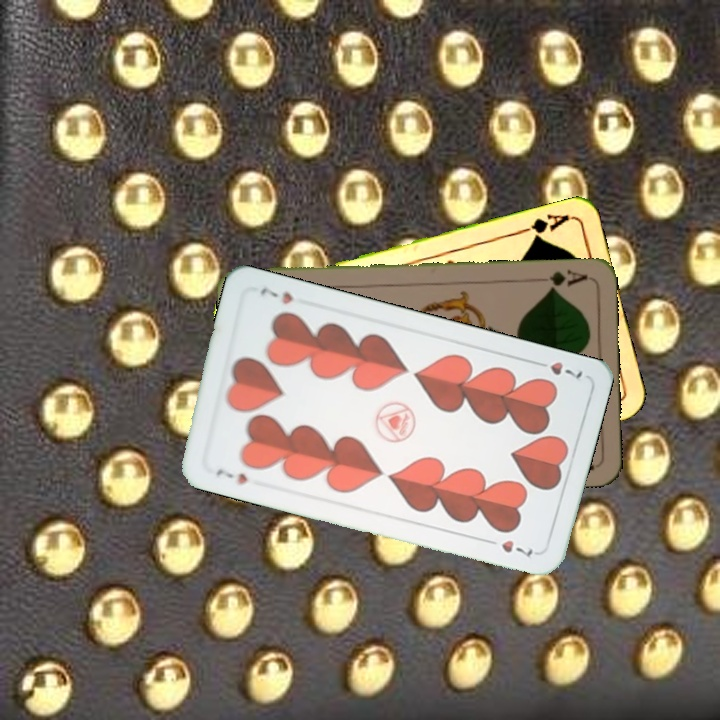GA: (515, 210, 574, 243), (531, 266, 590, 293)
H7: (529, 357, 585, 382), (212, 464, 250, 488)
